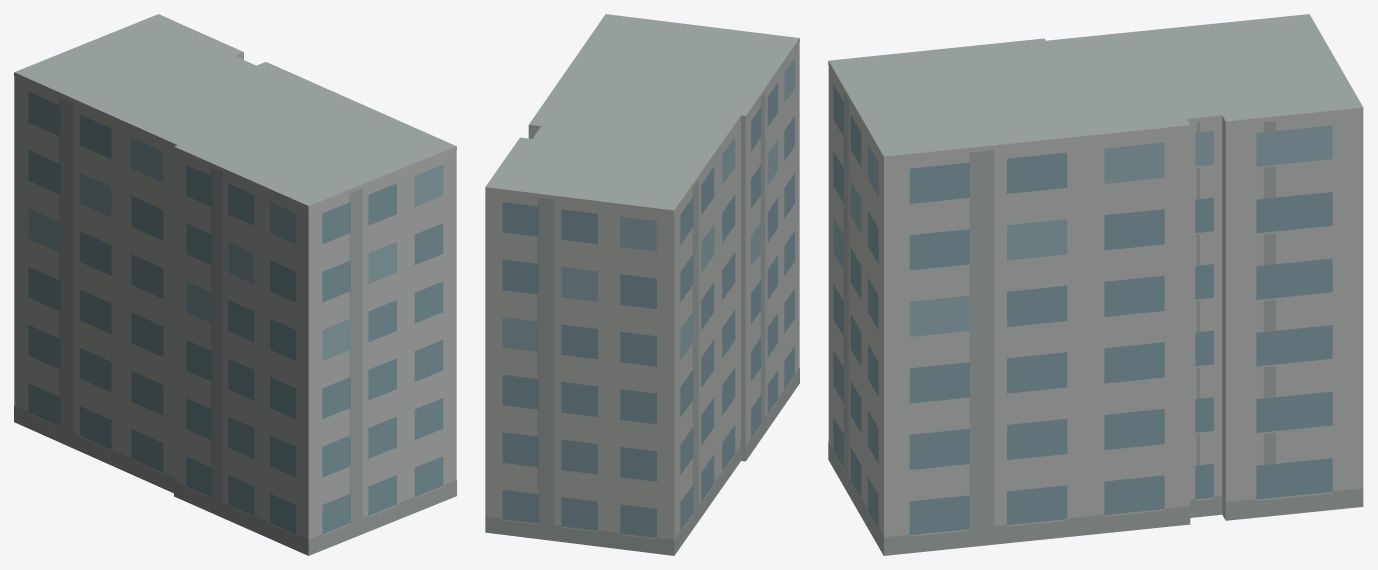
Rendered from survey-upis-33043626.glb.
The picture shows the model from 3 angles, left to right: view 1: azimuth 30°, elevation 25°; view 2: azimuth 150°, elevation 25°; view 3: azimuth 270°, elevation 25°; orthographic projection. The views are drawn at different scales.
Visible parts, largest first — view 1: survey-upis-33043626.tmp; view 2: survey-upis-33043626.tmp; view 3: survey-upis-33043626.tmp.
Boxes of the visible parts, box(x1,y1,x2,y2) form: survey-upis-33043626.tmp: box(14, 14, 456, 555); survey-upis-33043626.tmp: box(485, 14, 799, 555); survey-upis-33043626.tmp: box(828, 14, 1363, 555).
Bounding box in the file's own units: 15.79 × 20.6 × 25.02.
